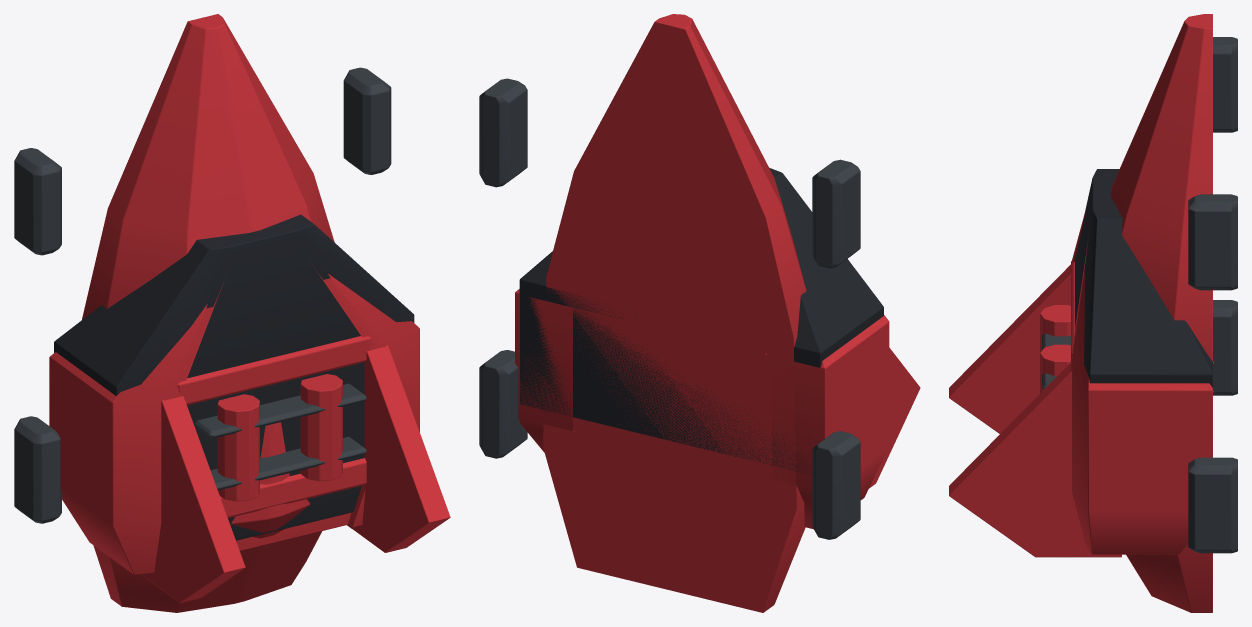
The model's file is CalfBack_Set08_Goliath.fbx.
3 renders of one model, left to right at view 1: azimuth 30°, elevation 25°; view 2: azimuth 150°, elevation 25°; view 3: azimuth 270°, elevation 25°, orthographic. The views are drawn at different scales.
Visible parts, largest first — view 1: CalfBack_Set08_Goliath; view 2: CalfBack_Set08_Goliath; view 3: CalfBack_Set08_Goliath.
Boxes of the visible parts, <box> form: CalfBack_Set08_Goliath: <box>14,14,450,612</box>; CalfBack_Set08_Goliath: <box>479,14,920,612</box>; CalfBack_Set08_Goliath: <box>949,14,1237,612</box>.
Bounding box in the file's own units: 0.49 × 0.73 × 0.3486.
